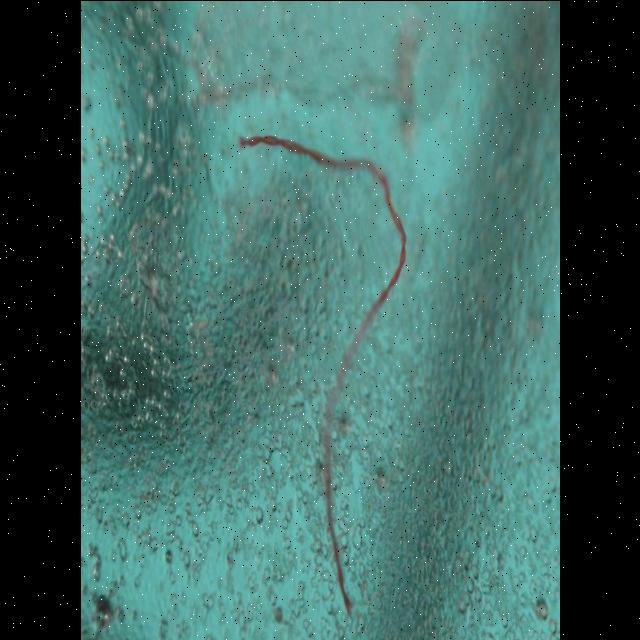Fibre: (237, 130, 407, 614)
